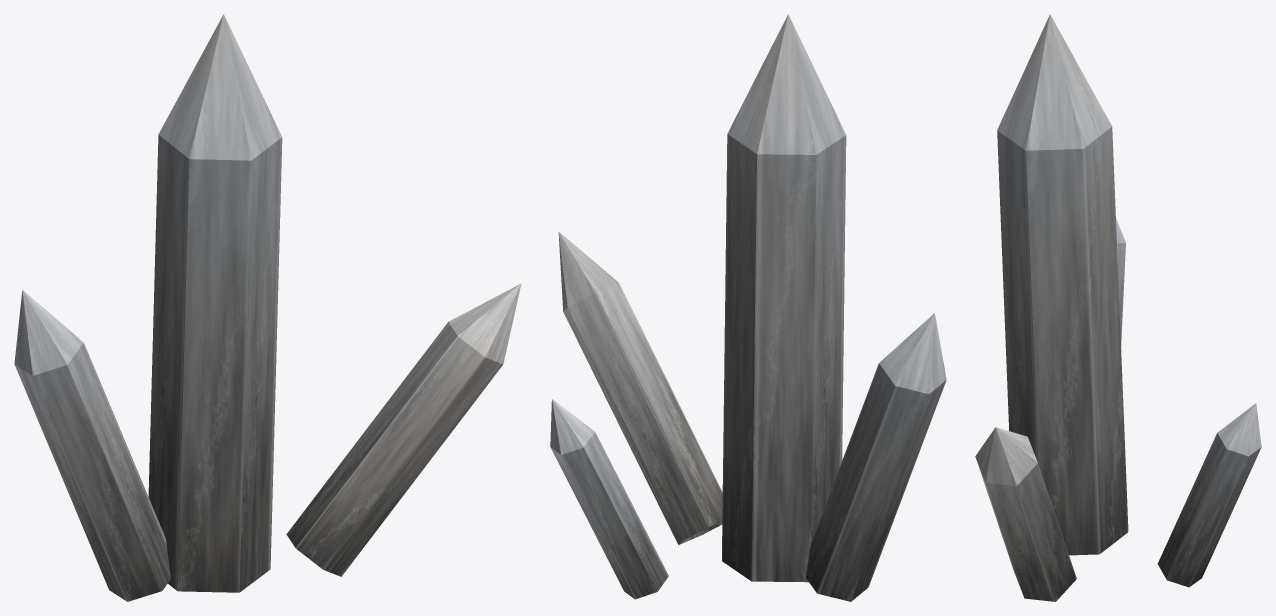
The model's file is crystals_l1.gltf.
3 views of the same model, side by side, from view 1: azimuth 30°, elevation 25°; view 2: azimuth 150°, elevation 25°; view 3: azimuth 270°, elevation 25° (orthographic). The views are drawn at different scales.
Visible parts, largest first — view 1: crystals_l1; view 2: crystals_l1; view 3: crystals_l1.
Boxes of the visible parts, x1,y1,x2,y2 form: crystals_l1: (14,14,521,601); crystals_l1: (550,14,946,601); crystals_l1: (975,14,1261,601).
Bounding box in the file's own units: 1.83 × 2.26 × 1.09.
Materials: 1 (1 with a texture image).
